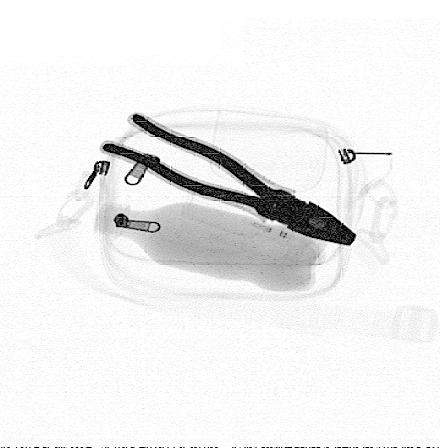Pliers: (98, 108, 361, 250)
